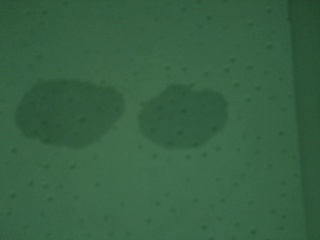Water_detected: (38, 83, 198, 137)
